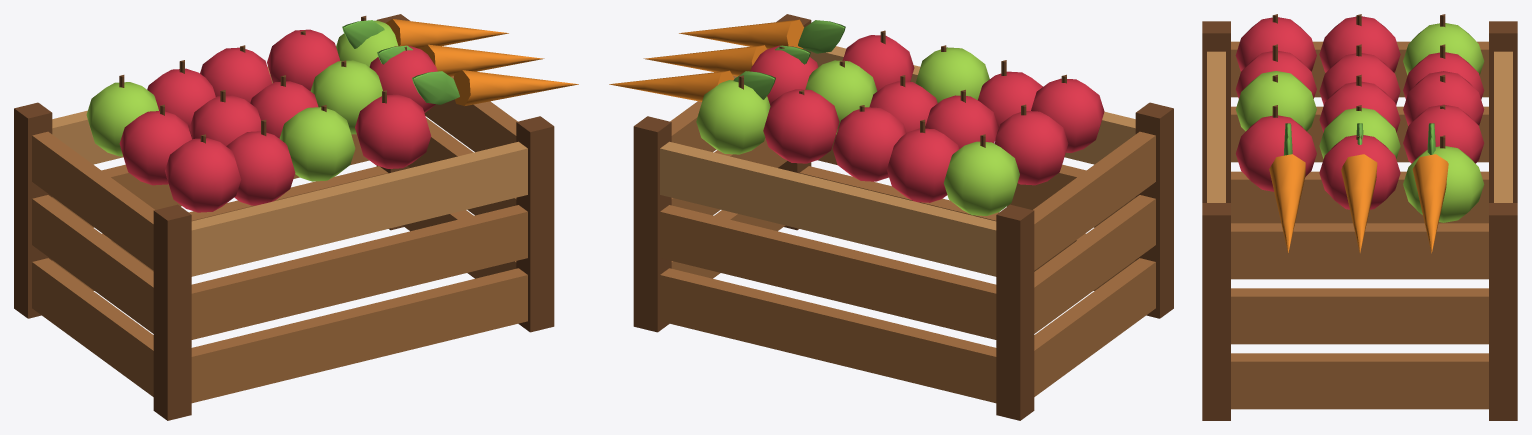
Rendered from ProduceCrate.glb.
3 renders of one model, left to right at view 1: azimuth 30°, elevation 25°; view 2: azimuth 150°, elevation 25°; view 3: azimuth 270°, elevation 25°, orthographic. The views are drawn at different scales.
Visible parts, largest first — view 1: Body; view 2: Body; view 3: Body.
Boxes of the visible parts, box(x1,y1,x2,y2) form: Body: box(14, 14, 578, 420); Body: box(609, 14, 1173, 420); Body: box(1202, 14, 1517, 420).
Size of the model in its own units: 2.25 by 1.16 by 1.32.
1 material, 1 textured.
